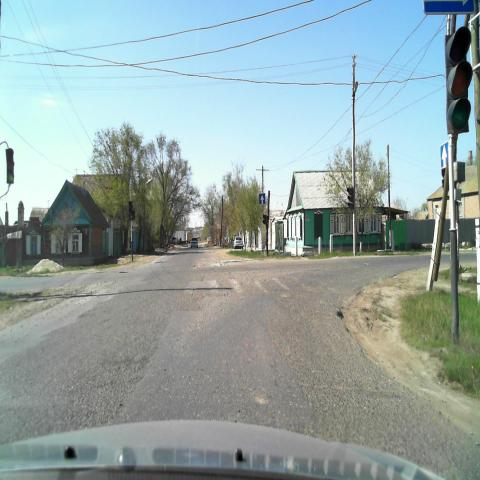5_5: (438, 143, 450, 173)
